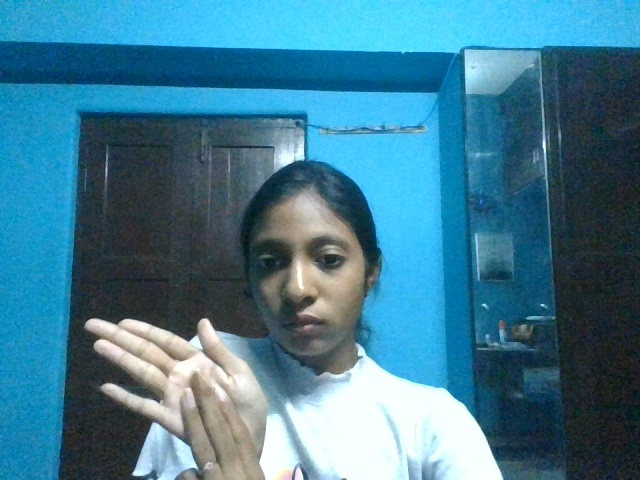M: (85, 313, 270, 480)
